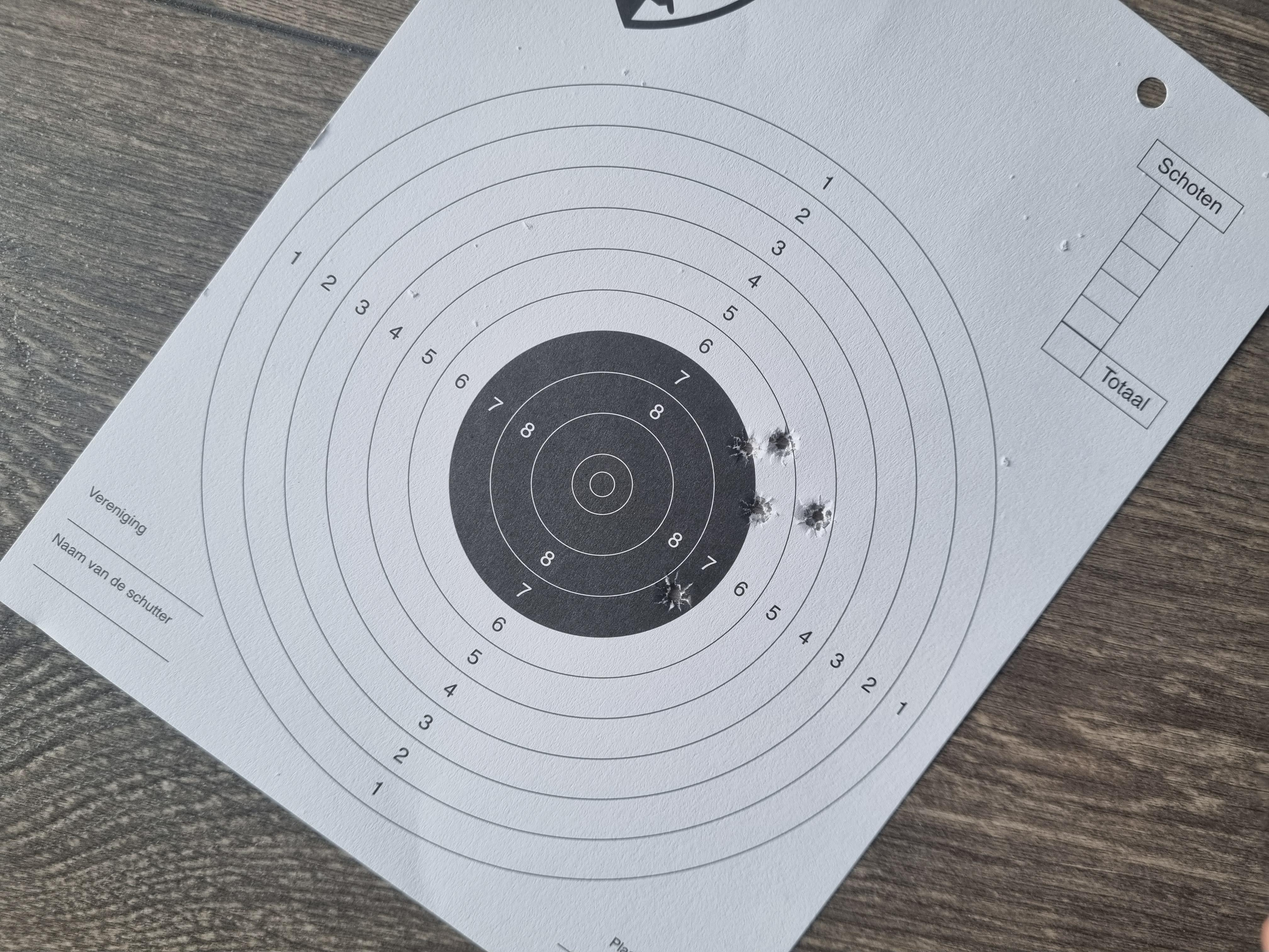hole: (565, 551, 619, 584), (556, 594, 604, 626), (452, 491, 501, 522), (653, 571, 699, 602), (652, 543, 695, 571)
